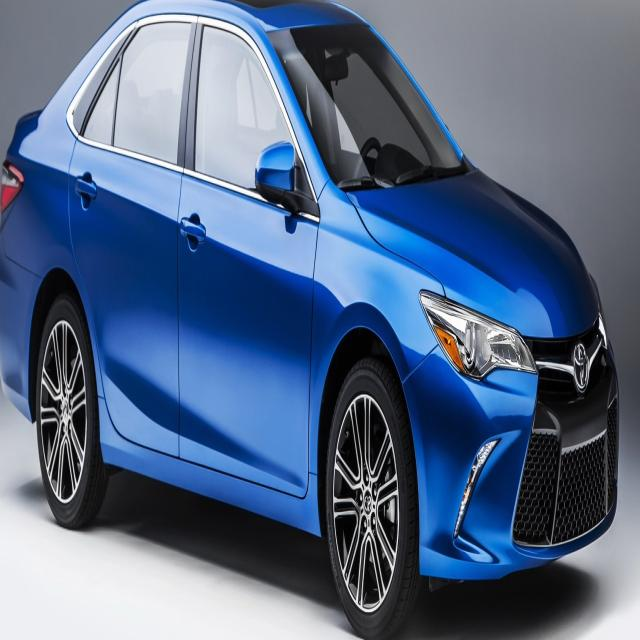blue: (6, 8, 627, 601)
